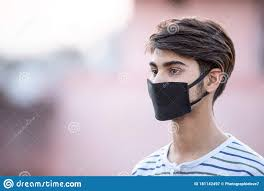with-mask: (140, 23, 226, 135)
